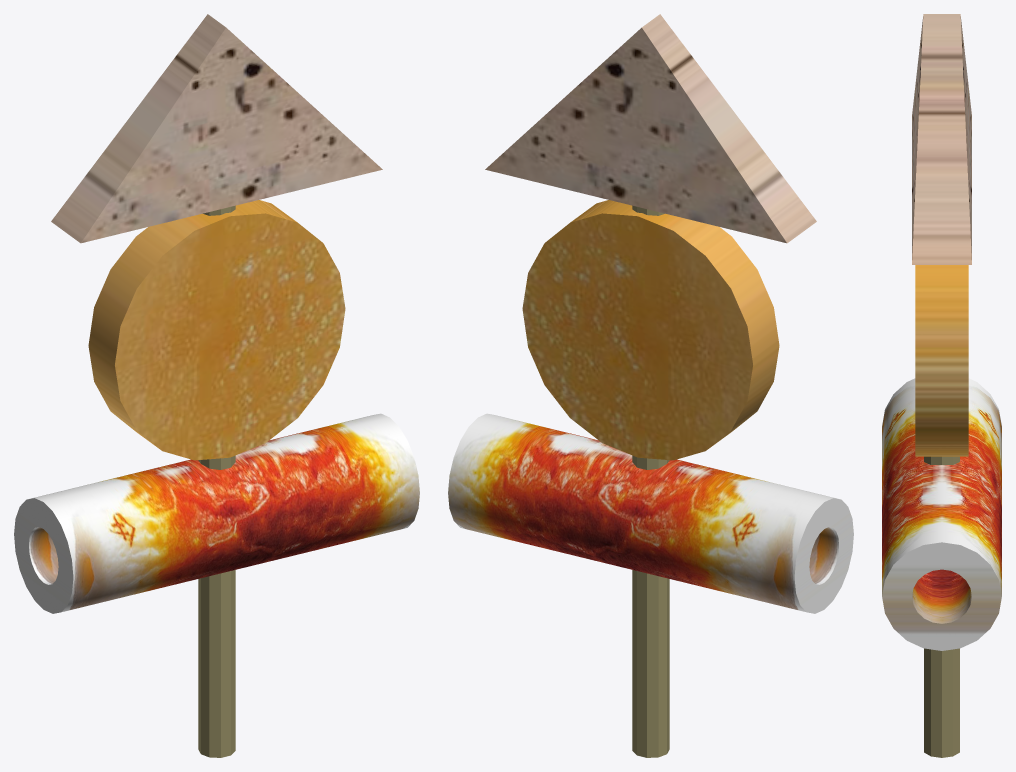
The model's file is newOden.fbx.
3 views of the same model, side by side, from view 1: azimuth 30°, elevation 25°; view 2: azimuth 150°, elevation 25°; view 3: azimuth 270°, elevation 25° (orthographic).
Parts seen in each view (by area): view 1: pCone2; view 2: pCone2; view 3: pCone2.
Part boxes in pixels (left/top/right/bottom): pCone2: left=14, top=14, right=419, bottom=757; pCone2: left=448, top=14, right=853, bottom=757; pCone2: left=882, top=14, right=1001, bottom=757.
Size of the model in its own units: 3.72 by 7.48 by 1.1.
